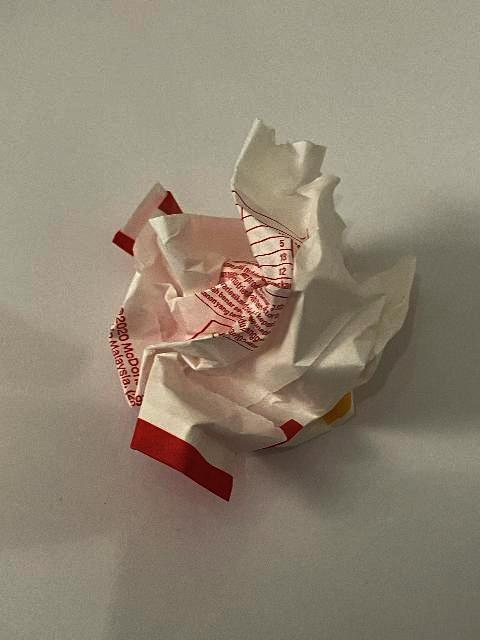paperbag: (109, 117, 418, 506)
